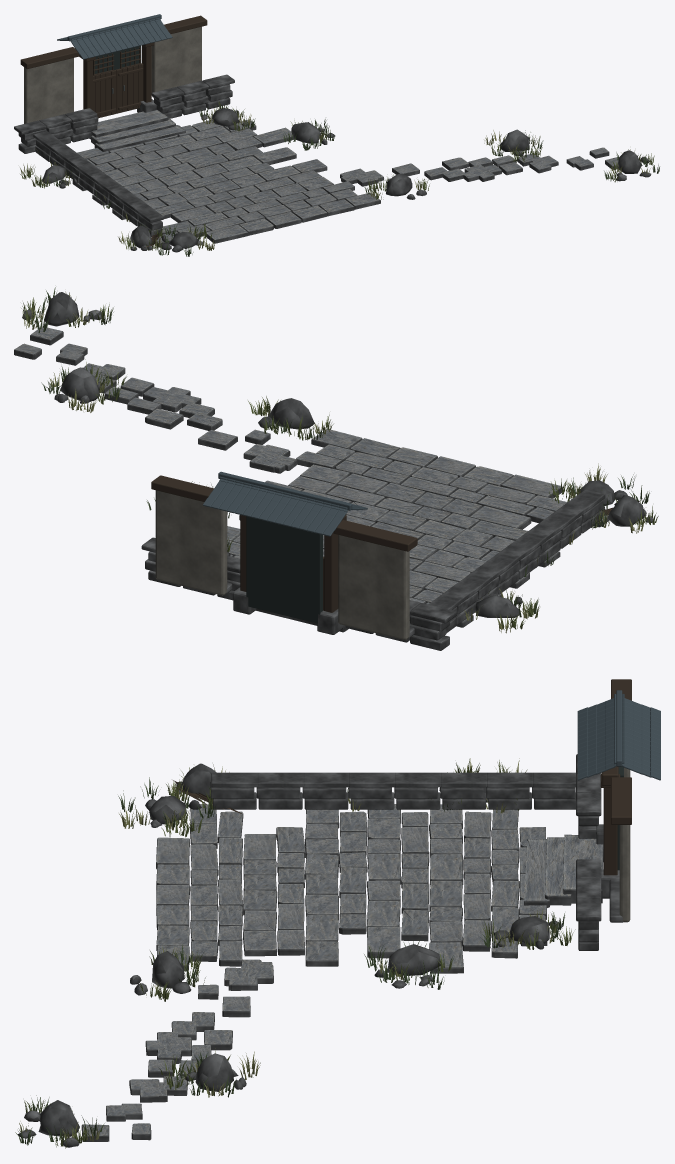
Rendered from courtyard_detail.glb.
3 renders of one model, top to bottom at view 1: azimuth 30°, elevation 25°; view 2: azimuth 150°, elevation 25°; view 3: azimuth 270°, elevation 25°, orthographic. The views are drawn at different scales.
Visible parts, largest first — view 1: Courtyard fitted flagstone, Courtyard weathered stone, Courtyard worn lime plaster, Courtyard weathered timber, Courtyard roof slate, Courtyard grass olive, Courtyard grass shadow, Courtyard grass dry, Courtyard deep cavity; view 2: Courtyard fitted flagstone, Courtyard weathered stone, Courtyard worn lime plaster, Courtyard deep cavity, Courtyard roof slate, Courtyard weathered timber, Courtyard grass olive, Courtyard grass dry, Courtyard grass shadow; view 3: Courtyard fitted flagstone, Courtyard weathered stone, Courtyard roof slate, Courtyard grass olive, Courtyard weathered timber, Courtyard grass shadow, Courtyard grass dry, Courtyard worn lime plaster.
Boxes of the visible parts, box(x1,y1,x2,y2) form: Courtyard fitted flagstone: box(66, 110, 619, 246); Courtyard weathered stone: box(14, 74, 651, 252); Courtyard worn lime plaster: box(24, 26, 201, 123); Courtyard weathered timber: box(20, 15, 207, 247); Courtyard roof slate: box(57, 14, 172, 59); Courtyard grass olive: box(20, 101, 654, 250); Courtyard grass shadow: box(34, 103, 659, 256); Courtyard grass dry: box(20, 108, 650, 250); Courtyard deep cavity: box(94, 45, 141, 73); Courtyard fitted flagstone: box(14, 326, 609, 632); Courtyard weathered stone: box(22, 292, 653, 650); Courtyard worn lime plaster: box(155, 490, 409, 639); Courtyard deep cavity: box(246, 516, 322, 623); Courtyard roof slate: box(203, 471, 367, 536); Courtyard weathered timber: box(151, 475, 639, 612); Courtyard grass olive: box(21, 297, 658, 629); Courtyard grass dry: box(22, 291, 647, 633); Courtyard grass shadow: box(27, 287, 649, 617); Courtyard fitted flagstone: box(81, 804, 603, 1141); Courtyard weathered stone: box(18, 754, 623, 1147); Courtyard roof slate: box(577, 690, 660, 780); Courtyard grass olive: box(24, 759, 575, 1148); Courtyard weathered timber: box(173, 679, 631, 875); Courtyard grass shadow: box(15, 763, 564, 1145); Courtyard grass dry: box(19, 758, 556, 1141); Courtyard worn lime plaster: box(619, 767, 630, 922).
Size of the model in its own units: 20.48 by 3.92 by 14.8.
10 materials, 4 textured.
